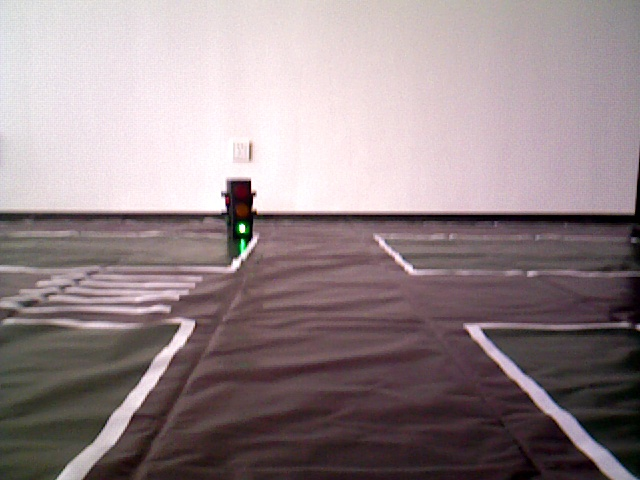green: (224, 183, 252, 234)
